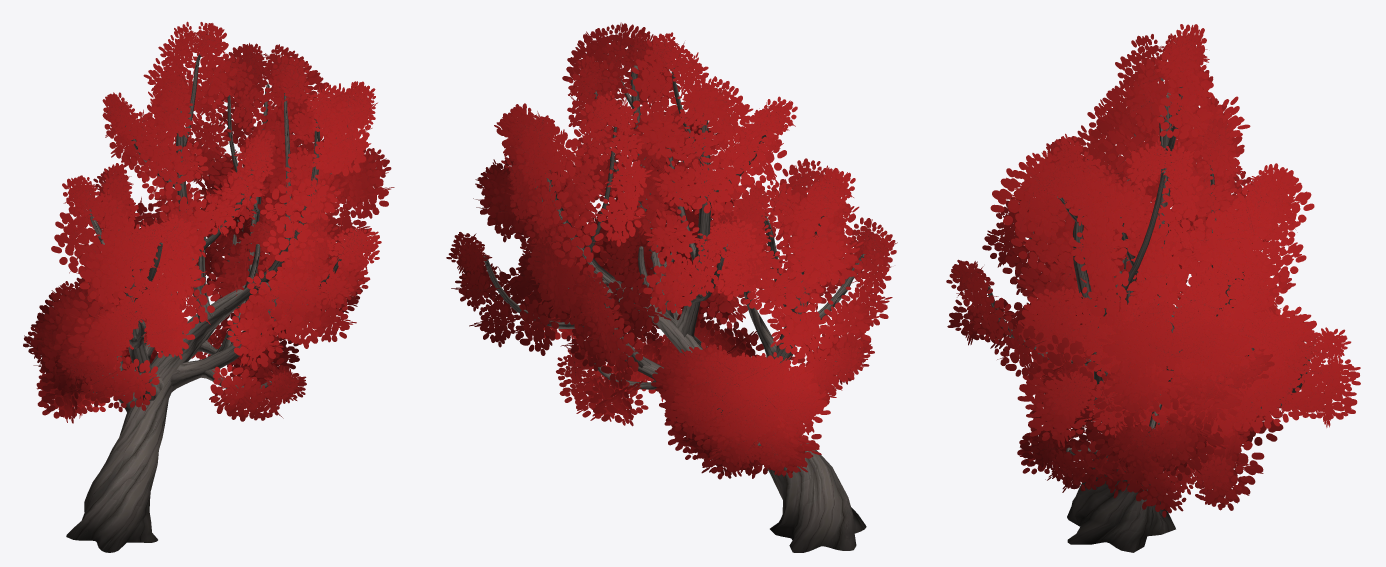
File: twisted1.glb
3 renders of one model, left to right at view 1: azimuth 30°, elevation 25°; view 2: azimuth 150°, elevation 25°; view 3: azimuth 270°, elevation 25°, orthographic. The views are drawn at different scales.
Visible parts, largest first — view 1: TwistedTree_1; view 2: TwistedTree_1; view 3: TwistedTree_1.
Boxes of the visible parts, x1,y1,x2,y2 form: TwistedTree_1: [23, 21, 394, 552]; TwistedTree_1: [446, 22, 897, 552]; TwistedTree_1: [946, 24, 1360, 552].
Bounding box in the file's own units: 13.52 × 16.73 × 11.55.
2 materials, 2 textured.
